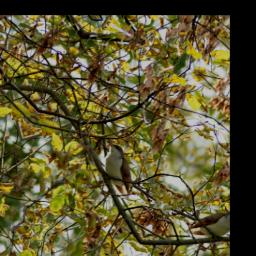Cuckoo: (85, 135, 156, 200)
